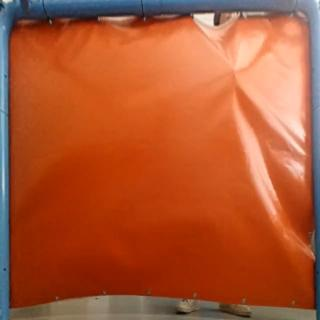Hit-hRxx: (225, 65, 242, 87)
